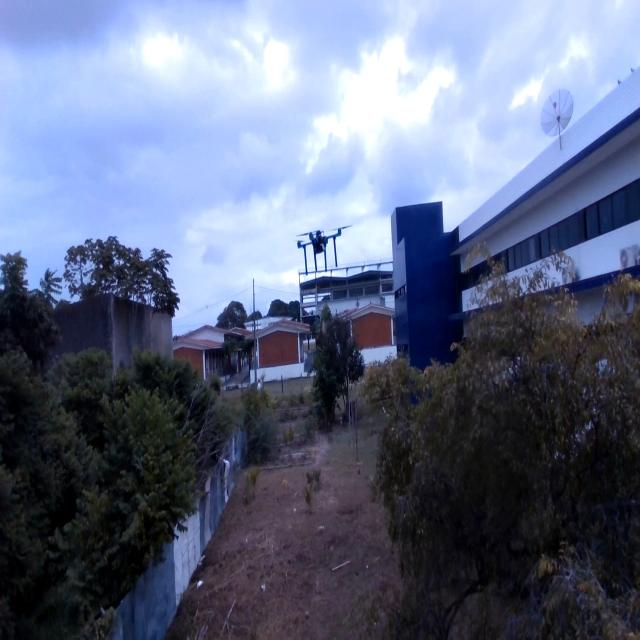-uav-: (282, 214, 354, 278)
